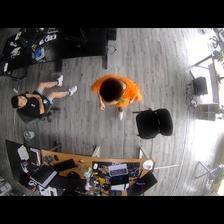normal: (10, 77, 77, 123), (90, 74, 140, 115)
